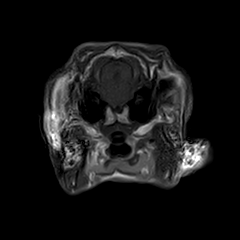Brain: (68, 29, 167, 127)
